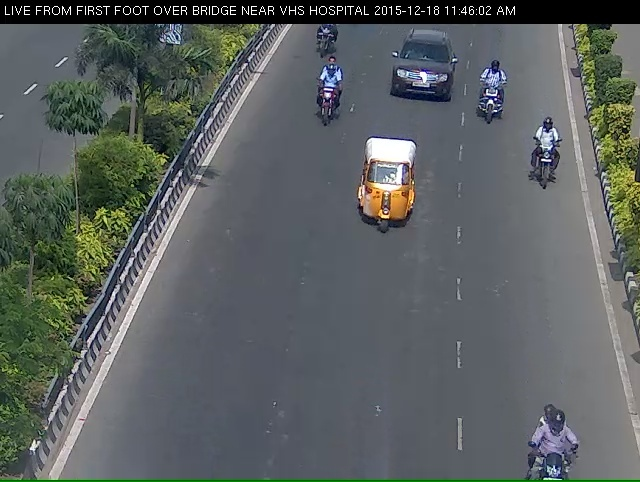Auto: (350, 145, 422, 261)
Car: (382, 29, 460, 118)
Person: (525, 118, 563, 200), (473, 67, 501, 138), (306, 21, 343, 69), (314, 71, 338, 139)
